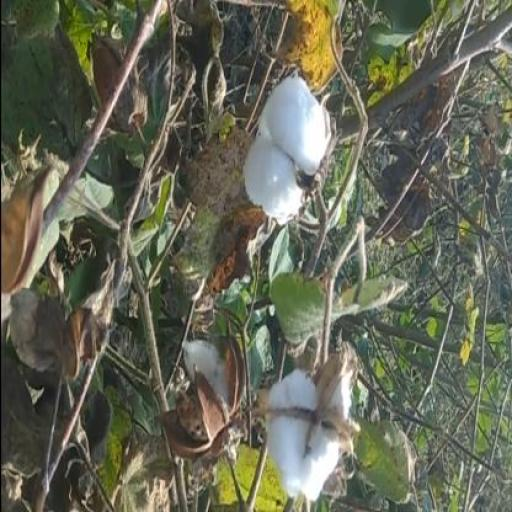cotton_ready: (240, 48, 346, 270), (244, 329, 363, 499)
